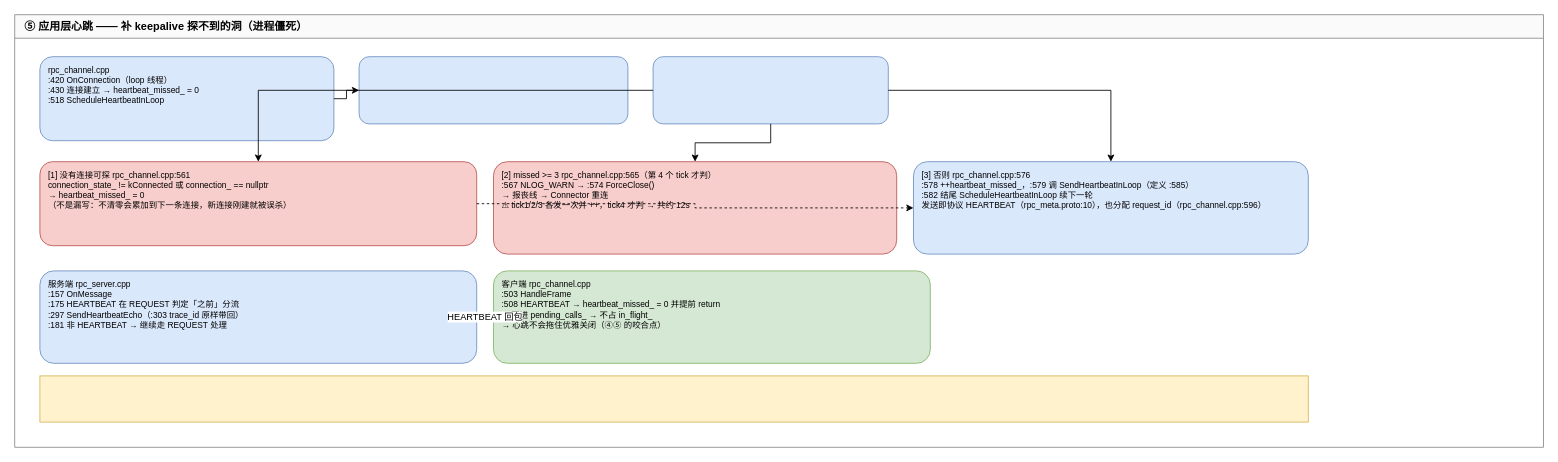
The diagram is 1558 pixels wide and 462 high, and some of its shapes have lost their labels. Here are the shapes that lost their labels. From the top down, the centre of each, then its label:
pixel 493 90: rpc_channel.cpp :455 断连时的 rpc connection closed :544 CancelHeartbeatInLoop
pixel 770 90: rpc_channel.cpp:557 RunAfter(3s) → OnHeartbeatTimer 三个分支 ↓
pixel 673 398: keepalive 由对端「内核」应答，只能证明机器和网络还活着；服务端进程 hang 住而内核正常时它照样成功。两者互补，keepalive 保留。
